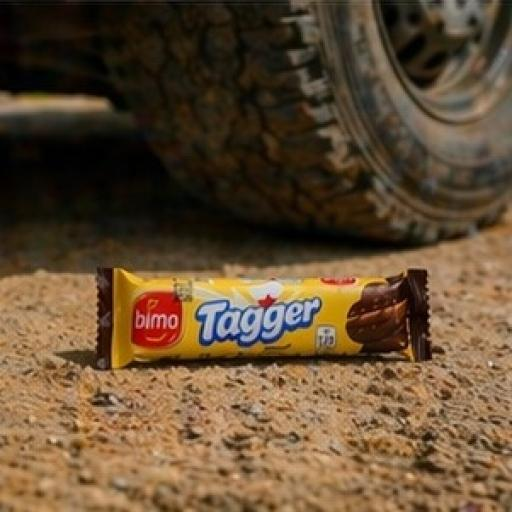tagger: (60, 168, 466, 424)
